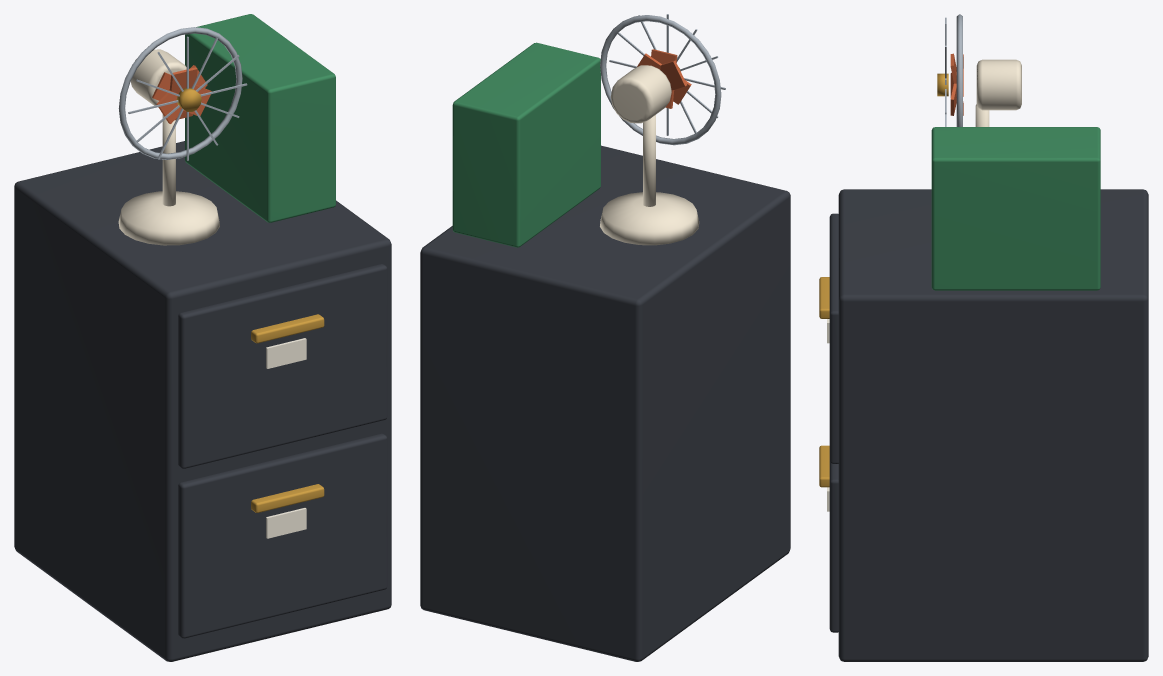
The model's file is RmFileCabinet.fbx.
3 renders of one model, left to right at view 1: azimuth 30°, elevation 25°; view 2: azimuth 150°, elevation 25°; view 3: azimuth 270°, elevation 25°, orthographic.
Parts seen in each view (by area): view 1: RmFileCabinetBody; view 2: RmFileCabinetBody; view 3: RmFileCabinetBody.
Part boxes in pixels (x1,y1,x2,y2): RmFileCabinetBody: (14, 14, 391, 661); RmFileCabinetBody: (420, 14, 790, 661); RmFileCabinetBody: (819, 14, 1148, 661).
Bounding box in the file's own units: 0.46 × 1.12 × 0.5845.
